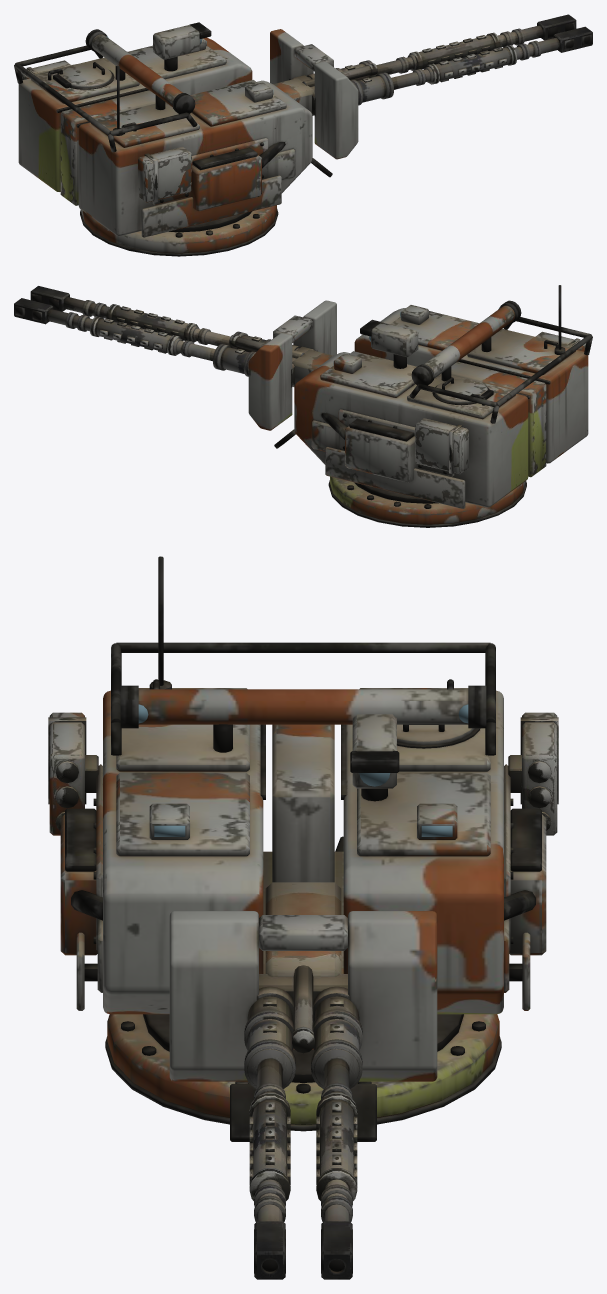
The model's file is turret_kit_t3_rust.glb.
The picture shows the model from 3 angles, top to bottom: view 1: azimuth 30°, elevation 25°; view 2: azimuth 150°, elevation 25°; view 3: azimuth 270°, elevation 25°; orthographic projection. The views are drawn at different scales.
Parts seen in each view (by area): view 1: turret_twin_t3, guns, pods; view 2: turret_twin_t3, guns, pods; view 3: turret_twin_t3, guns, pods.
Part boxes in pixels (box(x1,y1,x2,y2)): turret_twin_t3: box(14, 22, 358, 256); guns: box(273, 14, 592, 115); pods: box(21, 60, 191, 202); turret_twin_t3: box(248, 285, 592, 527); guns: box(14, 286, 333, 387); pods: box(415, 331, 586, 474); turret_twin_t3: box(60, 556, 546, 1141); guns: box(244, 882, 362, 1279); pods: box(48, 712, 558, 835).
Bounding box in the file's own units: 2.7 × 0.98 × 1.15.
4 materials, 3 textured.
